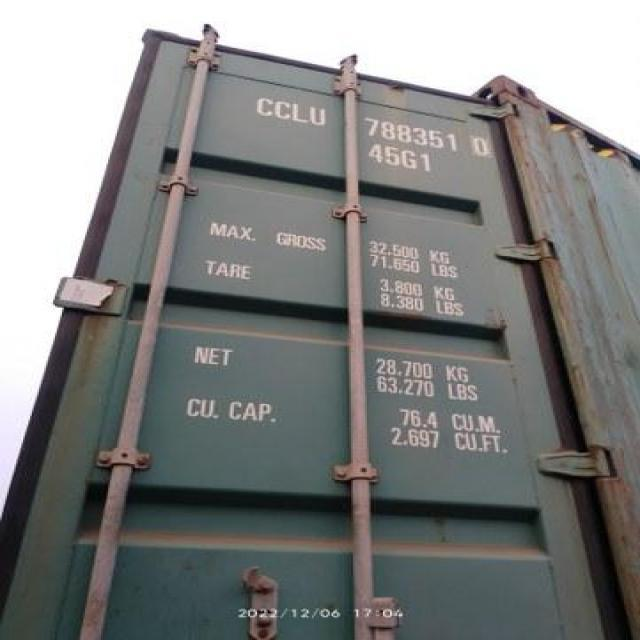ISO: (371, 150, 434, 171)
container_number: (258, 89, 508, 158)
